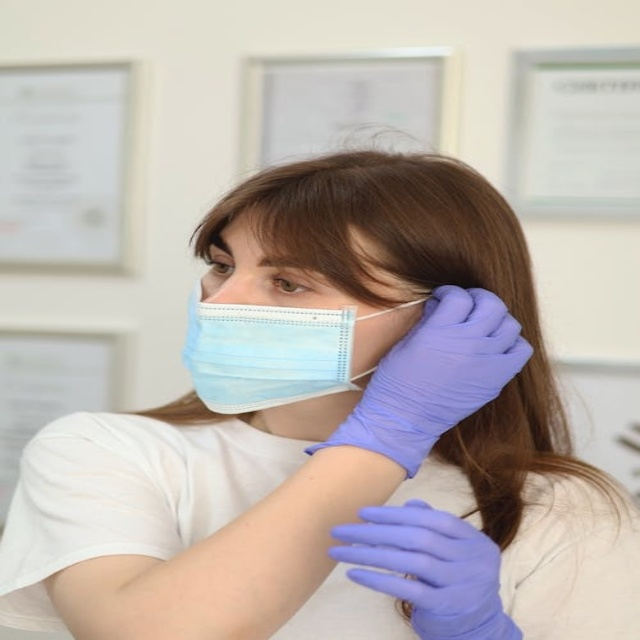Guantes: (306, 284, 531, 478), (328, 497, 524, 640)
Mascara: (182, 276, 409, 413)
Sin_gafas: (202, 236, 344, 300)
